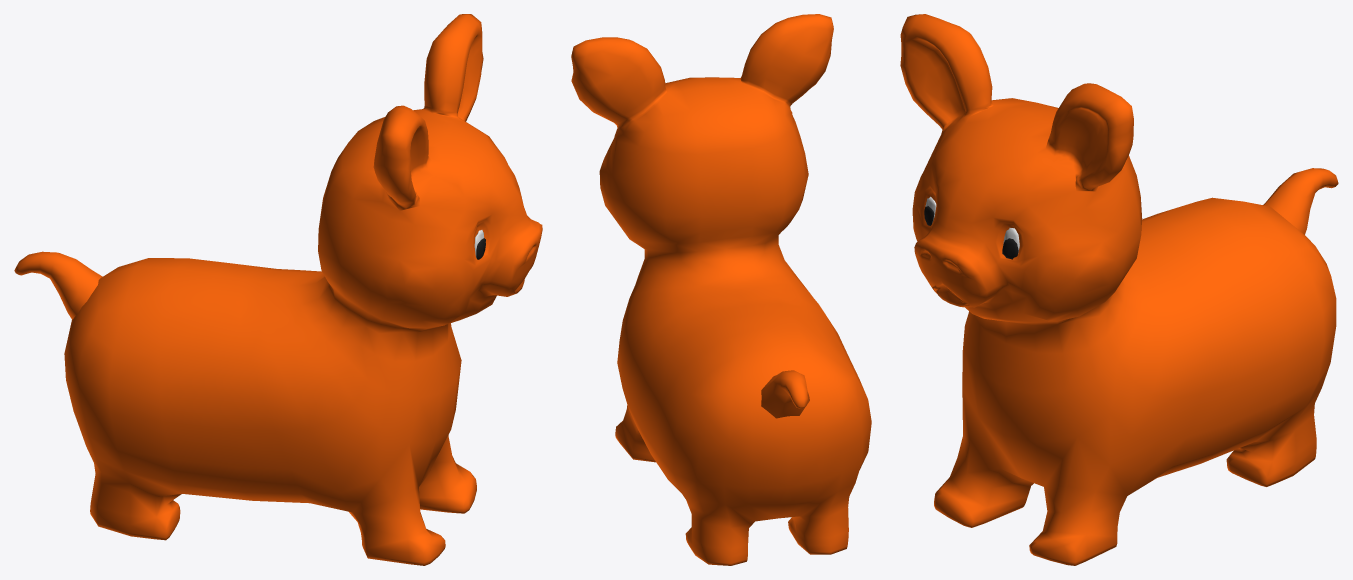
File: 012-wanju06.FBX
3 views of the same model, side by side, from view 1: azimuth 30°, elevation 25°; view 2: azimuth 150°, elevation 25°; view 3: azimuth 270°, elevation 25° (orthographic). The views are drawn at different scales.
Visible parts, largest first — view 1: 012-wanju06; view 2: 012-wanju06; view 3: 012-wanju06.
Part boxes in pixels (<box>): 012-wanju06: <box>14,14,542,565</box>; 012-wanju06: <box>571,14,871,565</box>; 012-wanju06: <box>900,14,1338,565</box>.
Bounding box in the file's own units: 45.33 × 55.4 × 45.44.
